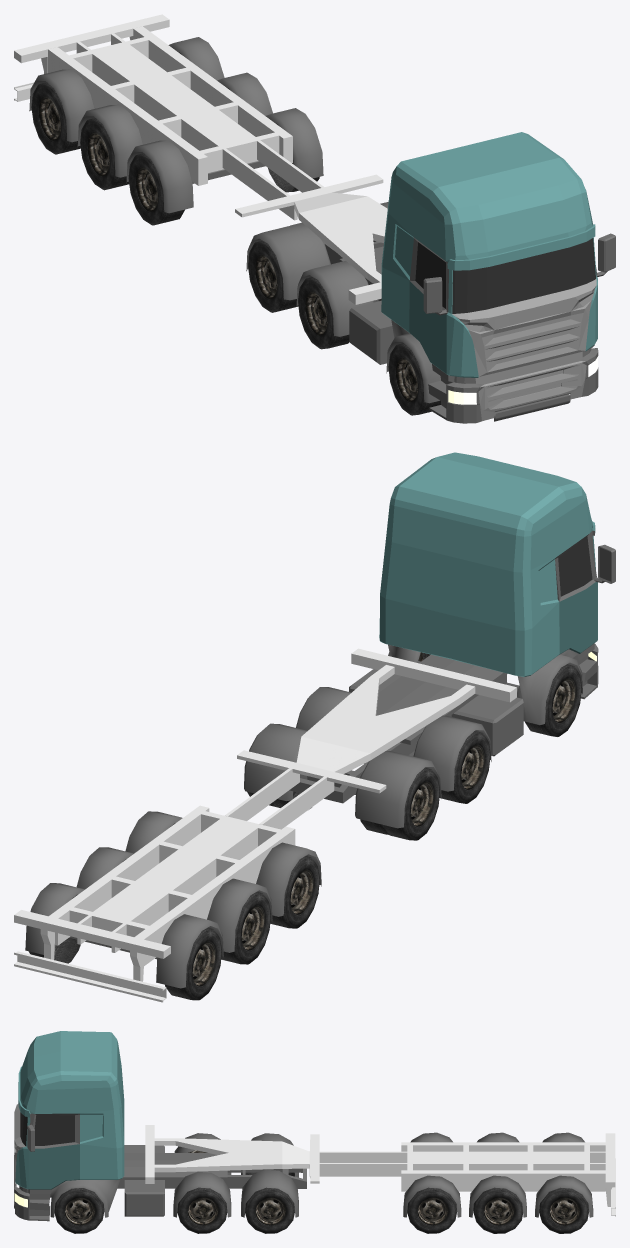
Rendered from scania.fbx.
3 renders of one model, top to bottom at view 1: azimuth 30°, elevation 25°; view 2: azimuth 150°, elevation 25°; view 3: azimuth 270°, elevation 25°, orthographic. The views are drawn at different scales.
Visible parts, largest first — view 1: car, trailer, wheel2.R, wheel4.R, wheel3.R, wheel1.R, wheel6.R, wheel5.R; view 2: car, trailer, wheel3.R, wheel1.R, wheel6.R, wheel2.R, wheel5.R, wheel4.R; view 3: car, trailer, wheel2.L, wheel5.L, wheel6.L, wheel4.L, wheel3.L, wheel1.L.
Boxes of the visible parts, box(x1,y1,x2,y2) form: car: box(246, 132, 615, 423); trailer: box(14, 14, 387, 304); wheel2.R: box(298, 277, 349, 349); wheel4.R: box(128, 153, 184, 225); wheel3.R: box(248, 240, 298, 312); wheel1.R: box(388, 343, 440, 415); wheel6.R: box(31, 82, 80, 154); wheel5.R: box(80, 118, 129, 190); car: box(244, 452, 615, 828); trailer: box(14, 648, 516, 1002); wheel3.R: box(360, 767, 439, 840); wheel1.R: box(525, 664, 581, 736); wheel6.R: box(165, 927, 221, 1000); wheel2.R: box(439, 731, 490, 803); wheel5.R: box(221, 892, 270, 964); wheel4.R: box(270, 856, 319, 928); car: box(14, 1031, 306, 1221); trailer: box(145, 1125, 615, 1217); wheel2.L: box(177, 1187, 227, 1233); wheel5.L: box(473, 1187, 522, 1233); wheel6.L: box(539, 1187, 588, 1233); wheel4.L: box(407, 1187, 456, 1233); wheel3.L: box(245, 1187, 294, 1233); wheel1.L: box(54, 1188, 104, 1233).
Bounding box in the file's own units: 384 × 447 × 1547.
